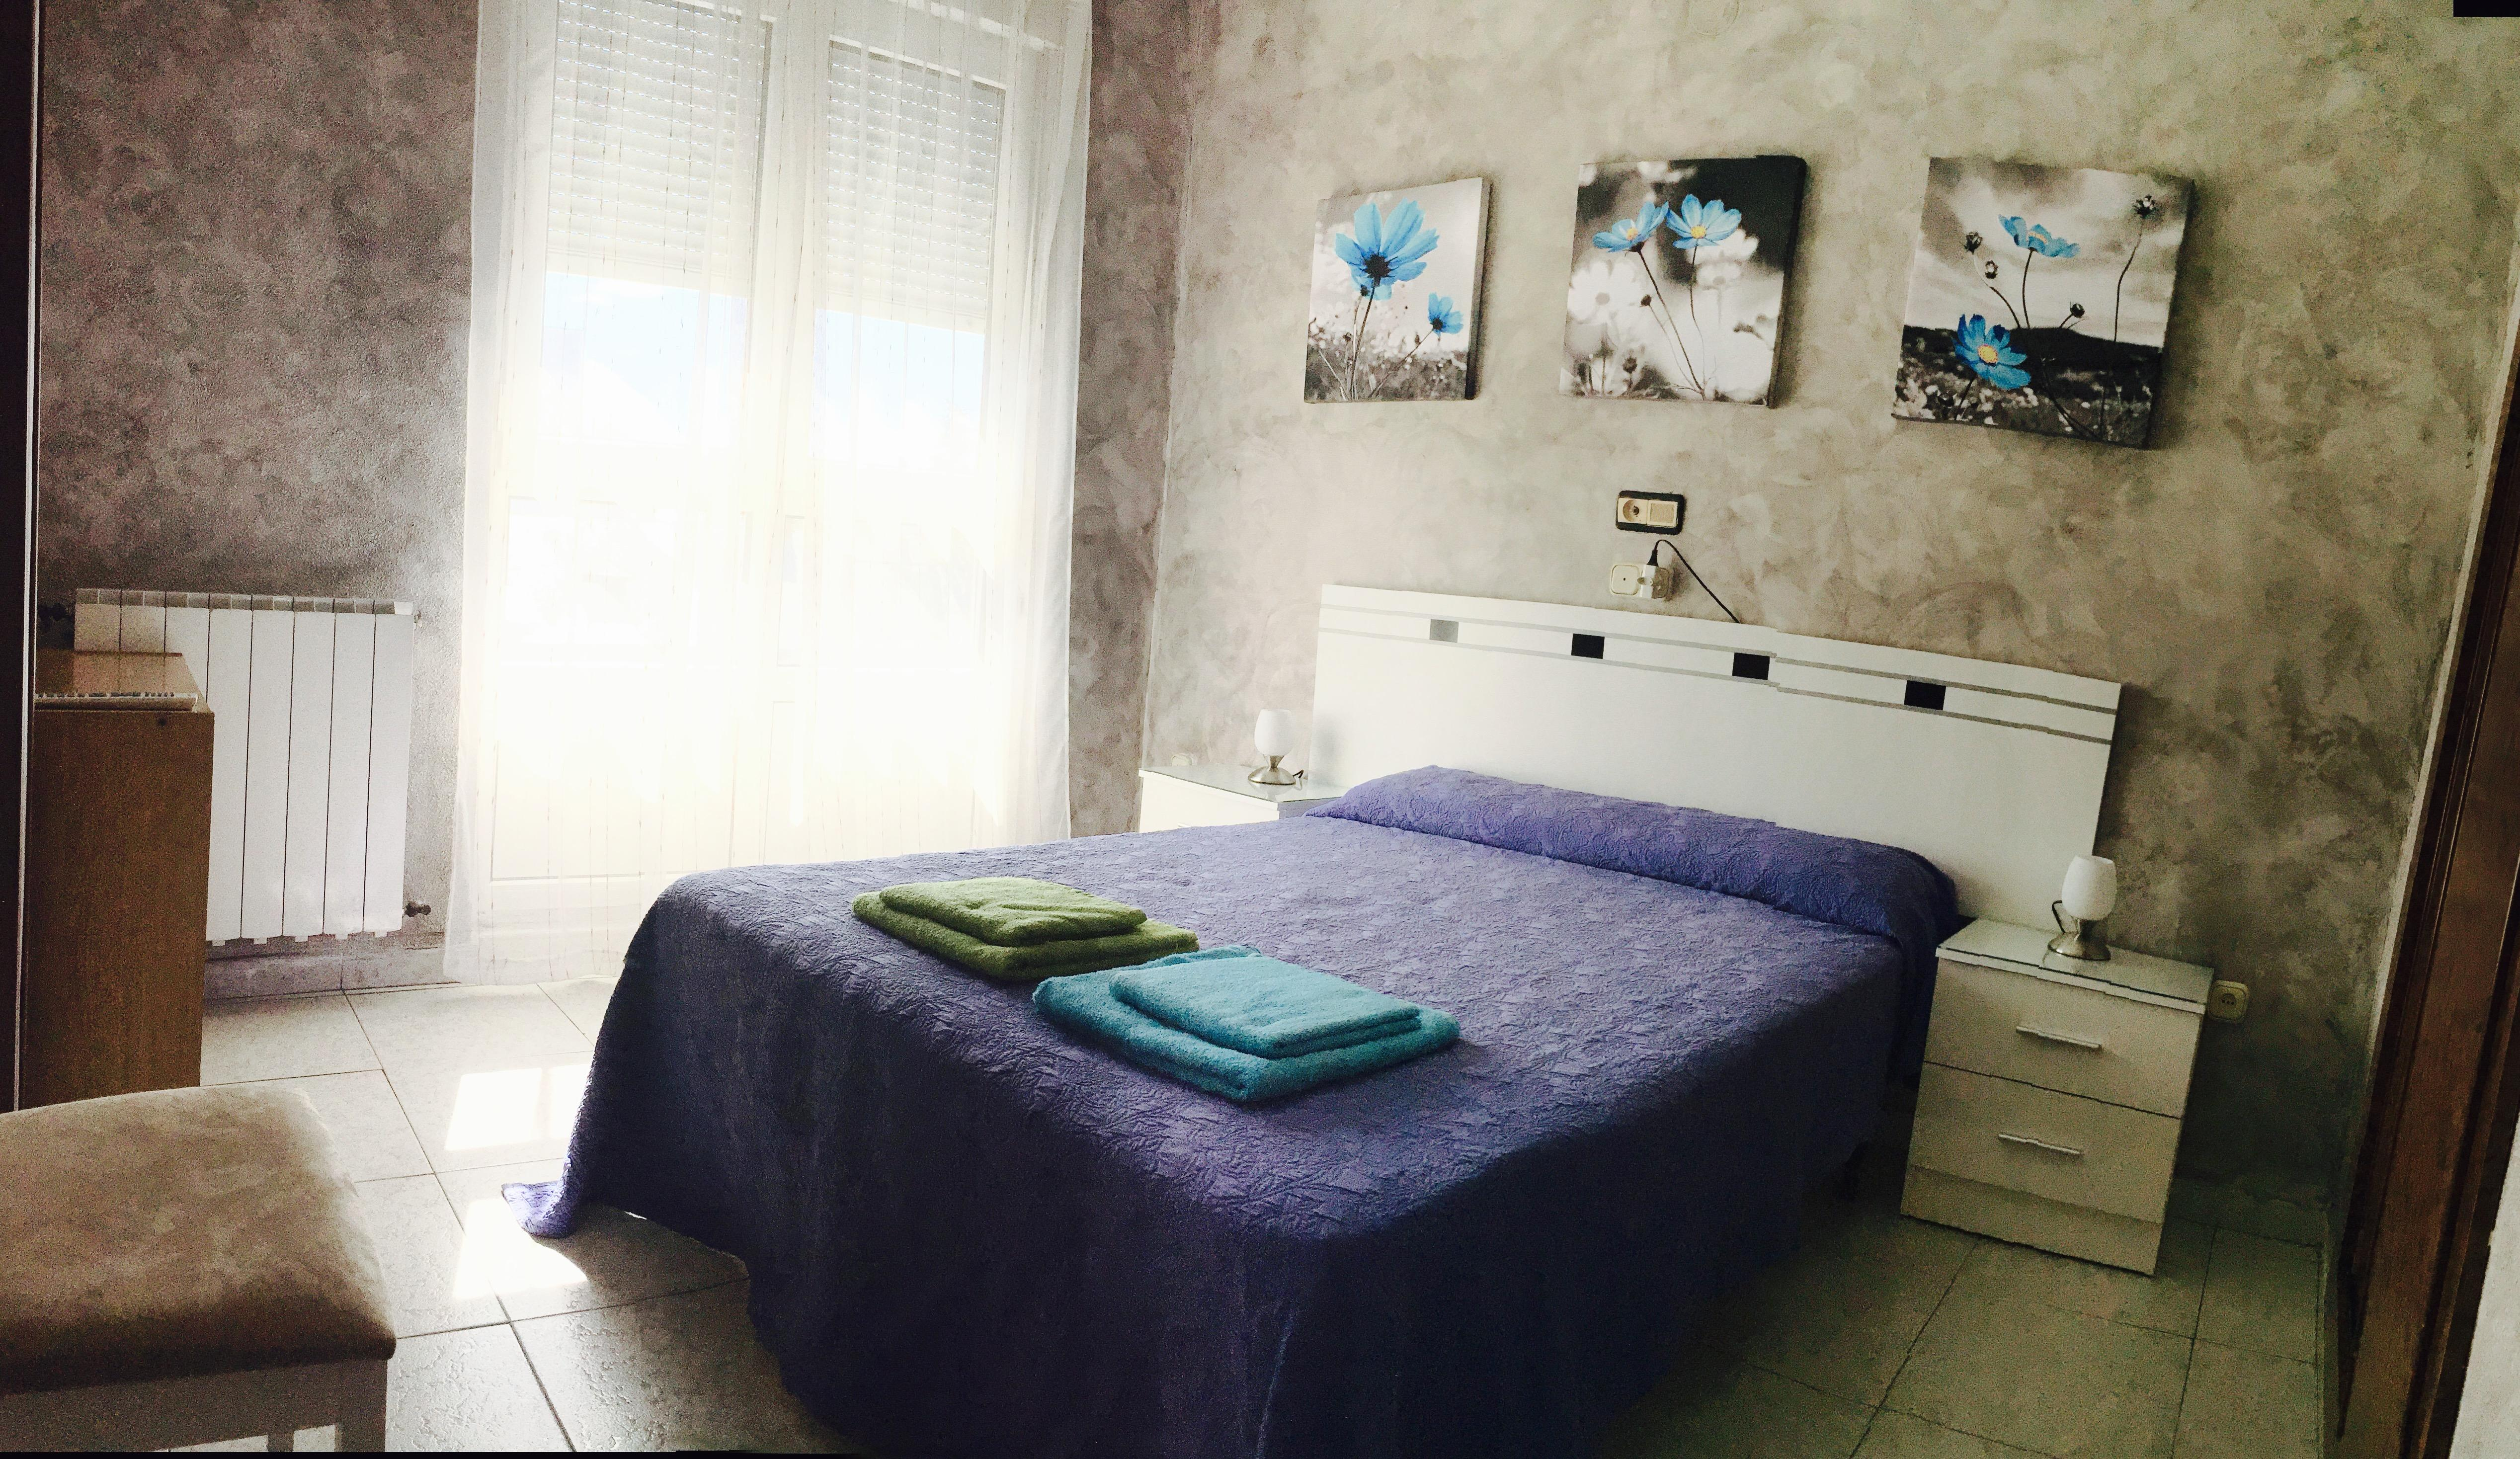bed: (641, 596, 2008, 1351)
